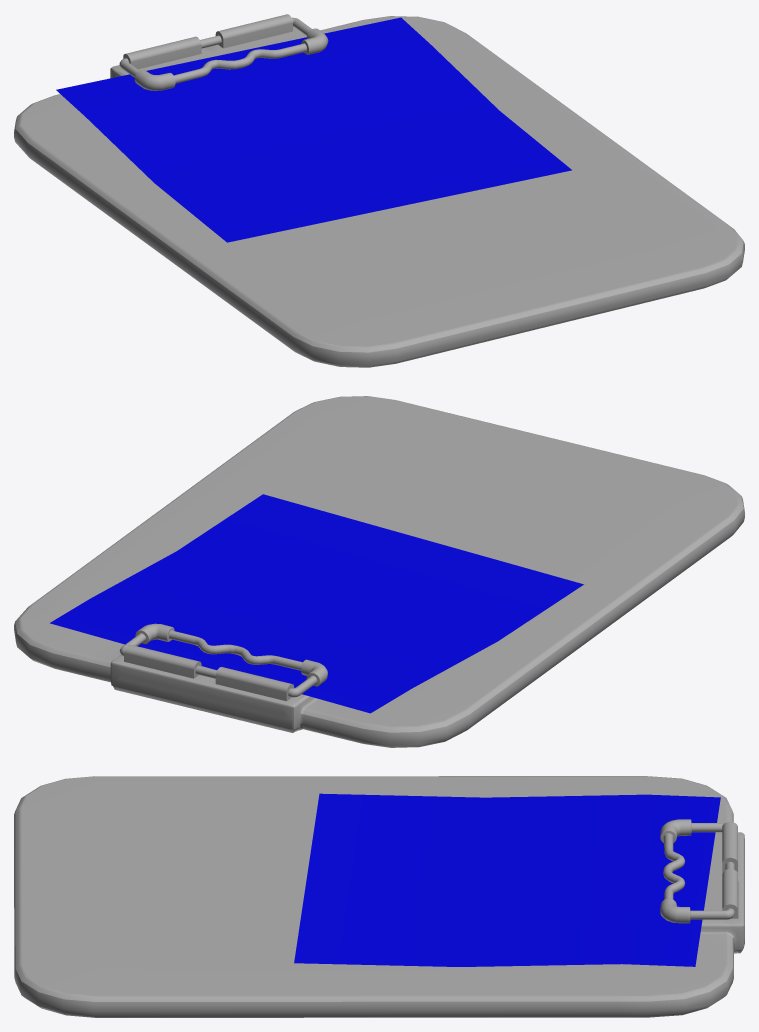
The model's file is S1_L_Clipboard.fbx.
3 views of the same model, one above another, from view 1: azimuth 30°, elevation 25°; view 2: azimuth 150°, elevation 25°; view 3: azimuth 270°, elevation 25° (orthographic). The views are drawn at different scales.
Visible parts, largest first — view 1: S1_Clipboard; view 2: S1_Clipboard; view 3: S1_Clipboard.
Part boxes in pixels (x1,y1,x2,y2): S1_Clipboard: (14, 14, 744, 367); S1_Clipboard: (14, 396, 744, 747); S1_Clipboard: (14, 776, 744, 1017).
Size of the model in its own units: 1299 by 121 by 1779.
